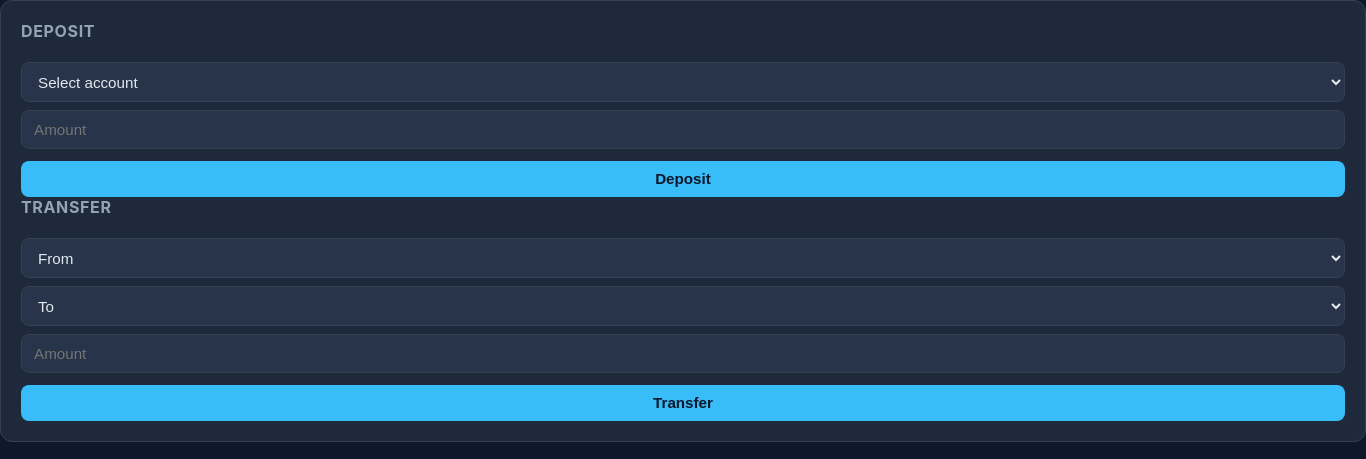
it: ActionsPanel › transfer › transfers between two different accounts and clears the amount
Select "Alice" in the dropdown named "Transfer from account" at coordinates (683, 258), box x1=21 y1=238 x2=1345 y2=278
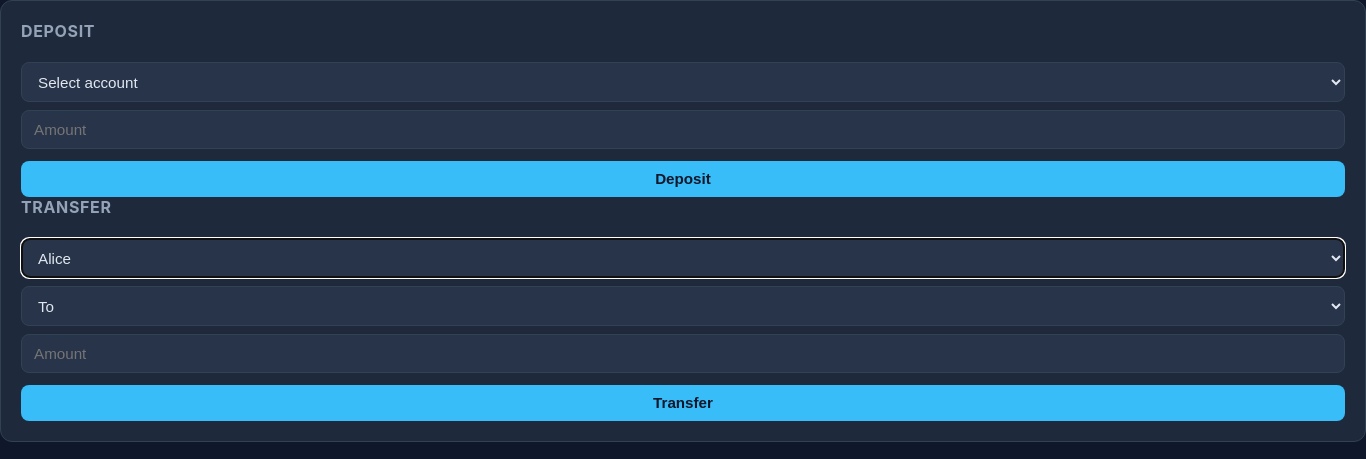
Select "Bob" in the dropdown named "Transfer to account" at coordinates (683, 306), box x1=21 y1=286 x2=1345 y2=326
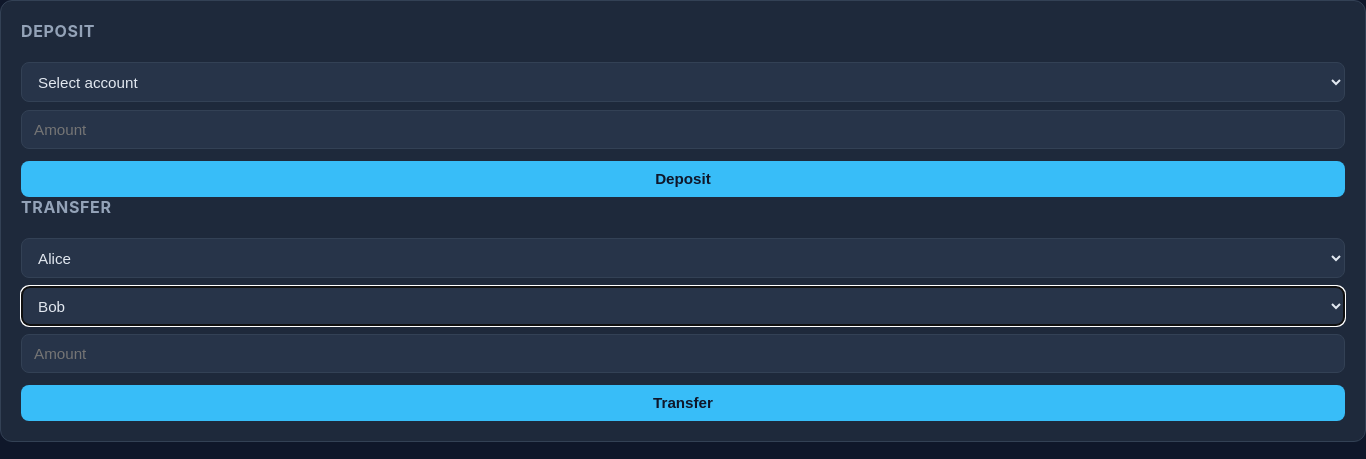
Type "30" into the 2nd number field with placeholder "Amount" at coordinates (683, 354), box x1=21 y1=334 x2=1345 y2=373
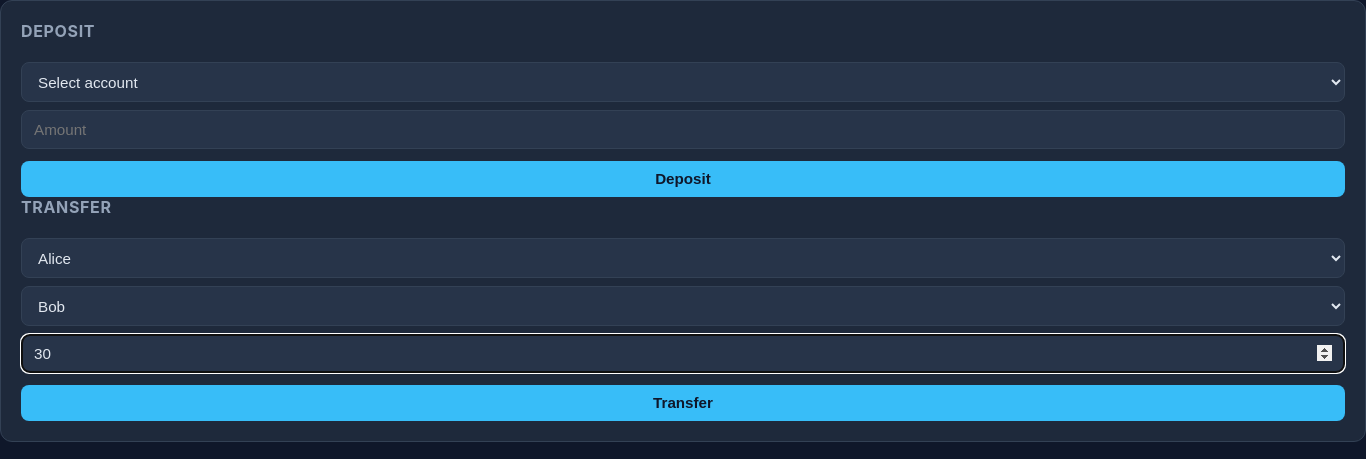
Click the button "Transfer" at coordinates (683, 403), box x1=21 y1=385 x2=1345 y2=421
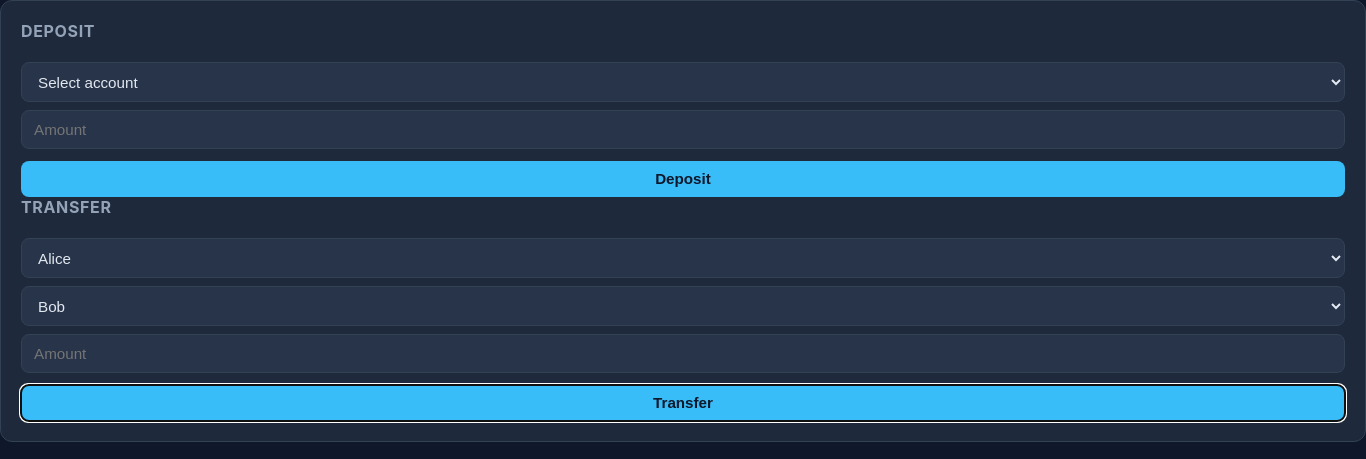
Expected: the 2nd number field with placeholder "Amount" is not empty, x1=21 y1=334 x2=1345 y2=373
